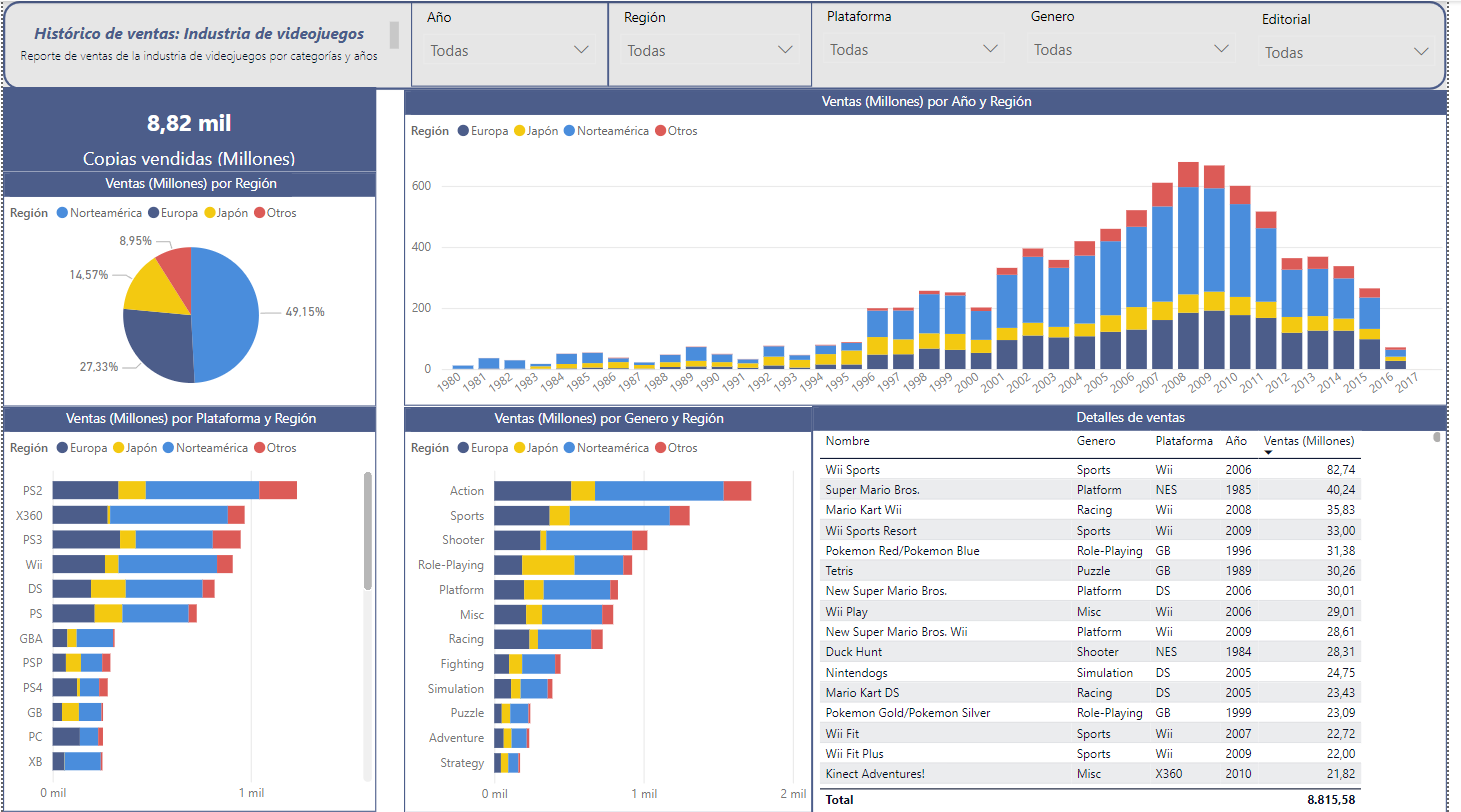

This screenshot's page, from the dashboard's own definition file:
{"tool":"powerbi","page":{"name":"Análisis Ventas","canvas":[1280,720],"ordinal":0},"visuals":[{"type":"shape","box":[0,0,1280.4,78.9],"z":0},{"type":"tableEx","title":"Detalles de ventas","fields":{"Values":["Ventas Videojuegos.Nombre","Ventas Videojuegos.Genero","Ventas Videojuegos.Plataforma","Ventas Videojuegos.Año","Sum(Ventas Videojuegos.Ventas (Millones))"]},"box":[717.1,359,562.9,360.9],"z":1000},{"type":"columnChart","fields":{"Category":["Ventas Videojuegos.Año"],"Y":["Sum(Ventas Videojuegos.Ventas (Millones))"],"Series":["Ventas Videojuegos.Región"]},"box":[361.8,78.9,918.6,280.2],"z":2000},{"type":"pieChart","fields":{"Category":["Ventas Videojuegos.Región"],"Y":["Sum(Ventas Videojuegos.Ventas (Millones))"]},"box":[0,172.9,331.6,186.2],"z":3000},{"type":"barChart","fields":{"Y":["Sum(Ventas Videojuegos.Ventas (Millones))"],"Series":["Ventas Videojuegos.Región"],"Category":["Ventas Videojuegos.Plataforma"]},"box":[0,359.9,331.5,359],"z":4000},{"type":"barChart","fields":{"Y":["Sum(Ventas Videojuegos.Ventas (Millones))"],"Series":["Ventas Videojuegos.Región"],"Category":["Ventas Videojuegos.Genero"]},"box":[361.8,360,355.6,360],"z":5000},{"type":"slicer","fields":{"Values":["Ventas Videojuegos.Año"]},"box":[361.8,0,155.2,76.3],"z":6000},{"type":"slicer","fields":{"Values":["Ventas Videojuegos.Región"]},"box":[516.9,0,155.2,76.3],"z":7000},{"type":"slicer","fields":{"Values":["Ventas Videojuegos.Plataforma"]},"box":[672.1,0,164,76.3],"z":8000},{"type":"slicer","fields":{"Values":["Ventas Videojuegos.Genero"]},"box":[836.2,0,180,76.3],"z":9000},{"type":"slicer","fields":{"Values":["Ventas Videojuegos.Editorial"]},"box":[1014.4,2.7,156.1,76.3],"z":10000},{"type":"cardVisual","fields":{"Data":["Sum(Ventas Videojuegos.Ventas (Millones))"]},"box":[0,76.3,331.6,96.7],"z":11000},{"type":"textbox","box":[0,13.3,355.6,47],"z":12000},{"type":"actionButton","box":[1186.7,10.8,66.4,52],"z":13000}]}

Visuals, with their boxes in screenshot pixels (x1, y1, x2, y2), scaled from the page's 1280x720 canvas onto the 1461x812 screenshot:
shape: l=0, t=0, r=1460, b=89
"Detalles de ventas" tableEx: l=819, t=405, r=1460, b=811
columnChart - Ventas Videojuegos.Año x Sum(Ventas Videojuegos.Ventas (Millones)): l=413, t=89, r=1460, b=405
pieChart - Ventas Videojuegos.Región x Sum(Ventas Videojuegos.Ventas (Millones)): l=0, t=195, r=378, b=405
barChart - Sum(Ventas Videojuegos.Ventas (Millones)) x Ventas Videojuegos.Región: l=0, t=406, r=378, b=811
barChart - Sum(Ventas Videojuegos.Ventas (Millones)) x Ventas Videojuegos.Región: l=413, t=406, r=819, b=811
slicer - Ventas Videojuegos.Año: l=413, t=0, r=590, b=86
slicer - Ventas Videojuegos.Región: l=590, t=0, r=767, b=86
slicer - Ventas Videojuegos.Plataforma: l=767, t=0, r=954, b=86
slicer - Ventas Videojuegos.Genero: l=954, t=0, r=1160, b=86
slicer - Ventas Videojuegos.Editorial: l=1158, t=3, r=1336, b=89
cardVisual - Sum(Ventas Videojuegos.Ventas (Millones)): l=0, t=86, r=378, b=195
textbox: l=0, t=15, r=406, b=68
actionButton: l=1355, t=12, r=1430, b=71
